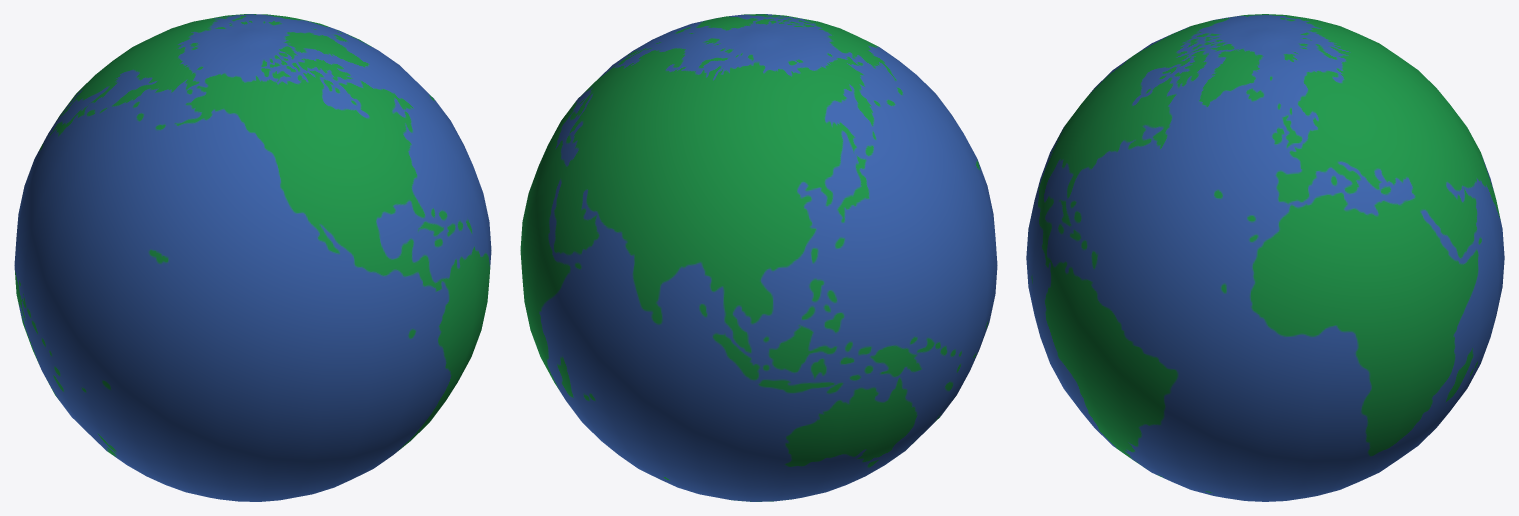
File: EarthIsRound.fbx
3 renders of one model, left to right at view 1: azimuth 30°, elevation 25°; view 2: azimuth 150°, elevation 25°; view 3: azimuth 270°, elevation 25°, orthographic.
Parts seen in each view (by area): view 1: Sphere.001; view 2: Sphere.001; view 3: Sphere.001.
Boxes of the visible parts, x1,y1,x2,y2 form: Sphere.001: (14,14,491,501); Sphere.001: (520,14,997,501); Sphere.001: (1026,14,1504,501).
Bounding box in the file's own units: 96.66 × 98.75 × 96.69.
Materials: 1 (1 with a texture image).
